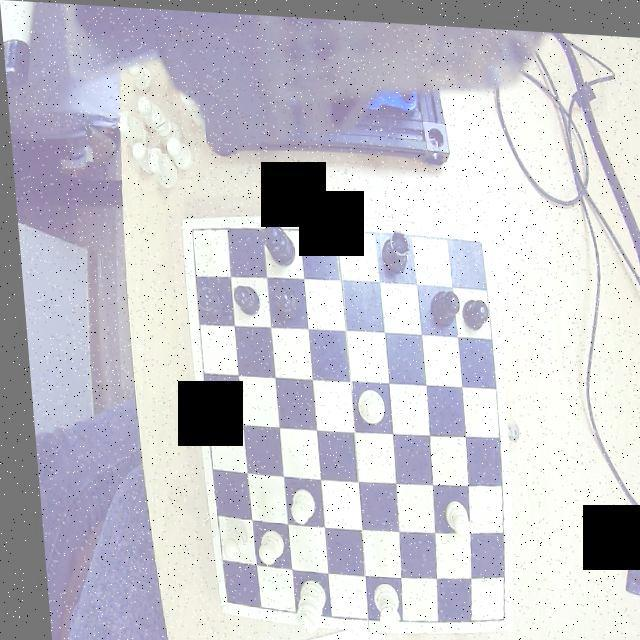chess-table-corners: (462, 227, 485, 252), (180, 216, 202, 239), (210, 584, 226, 612), (480, 603, 499, 625)
